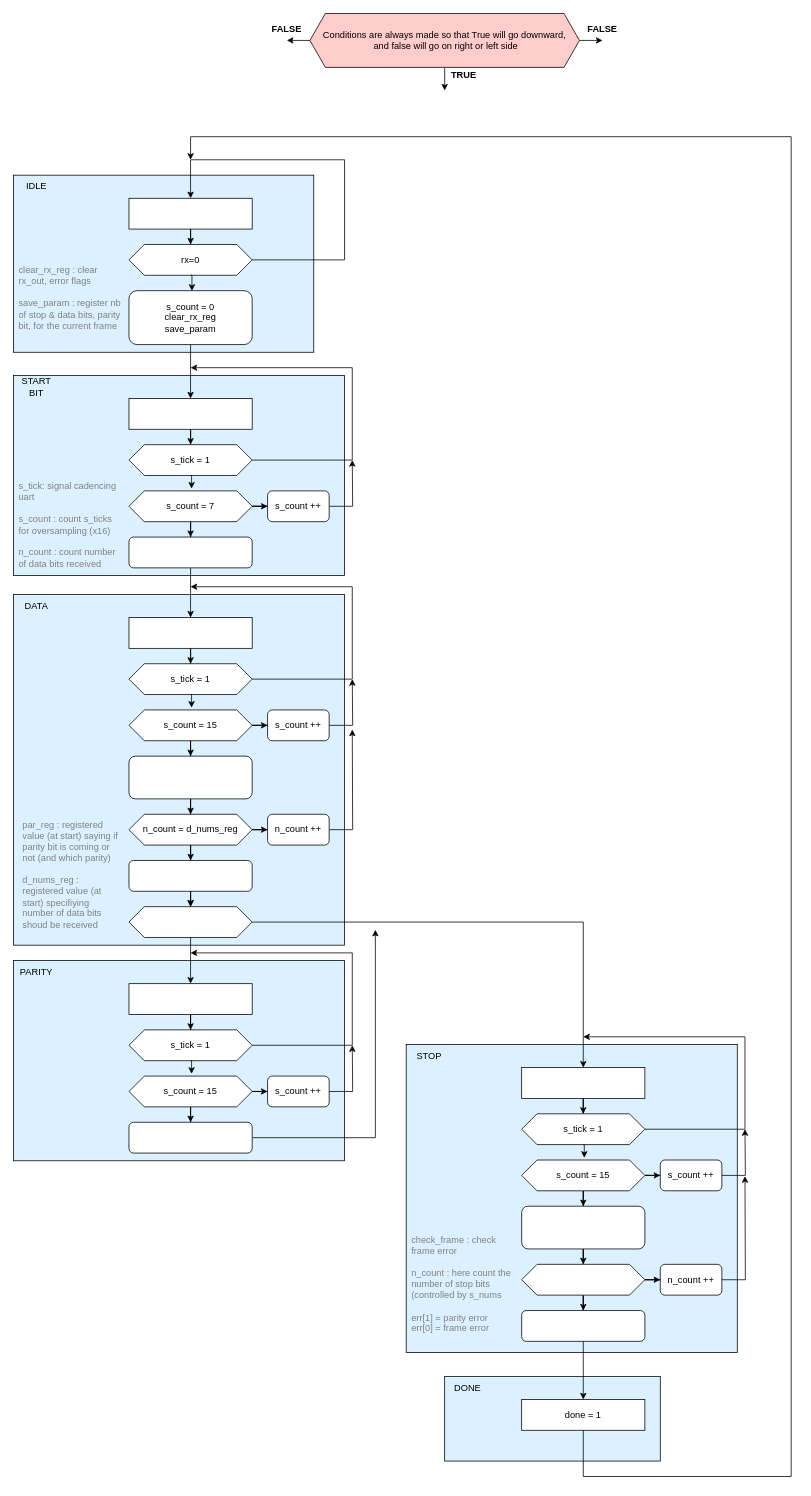
Some shapes in this 811 by 1496 pixel diagram are drawn without their labels. The shapes that lost their labels are listed below. From the top down, each one's centre as x and y in pixels, then its label:
(x=190, y=213): ready = 1
(x=190, y=552): n_count = 0 s_count = 0
(x=190, y=777): rd_data = rd_data & bit (concatenation) s_count = 0
(x=190, y=875): n_count = 0
(x=190, y=921): par_reg != "00"
(x=190, y=1137): parity_reg = bit s_count = 0
(x=583, y=1227): check_frame s_count = 0
(x=583, y=1279): n_count = nb_stop_bits - 1
(x=583, y=1325): concat (data, err)
